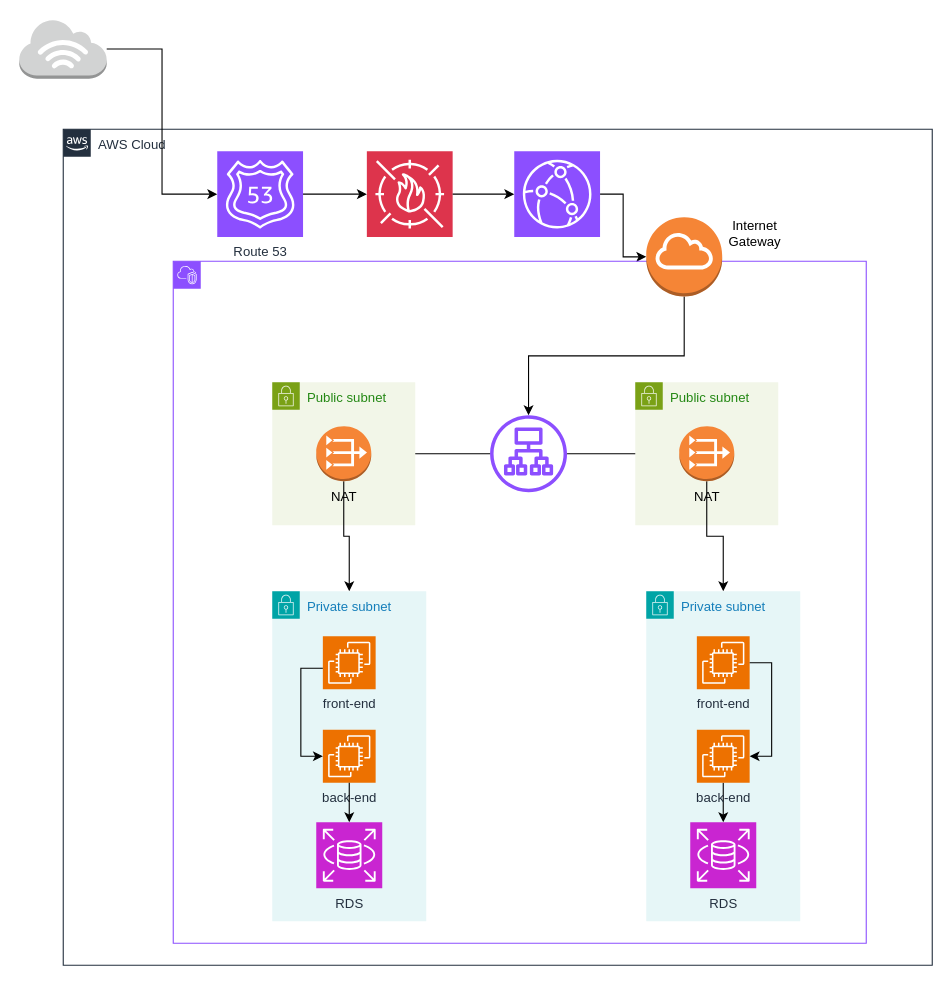
Some shapes in this 952 by 985 pixel diagram are drawn without their labels. The box of each missing label's shape, as (x1, y1, x2, y2) in pixels:
Cloud Front: (513, 150, 600, 237)
Internet: (18, 18, 107, 79)
Load Balancer: (490, 415, 566, 492)
VPC: (172, 260, 866, 943)
WAF: (366, 150, 453, 237)
